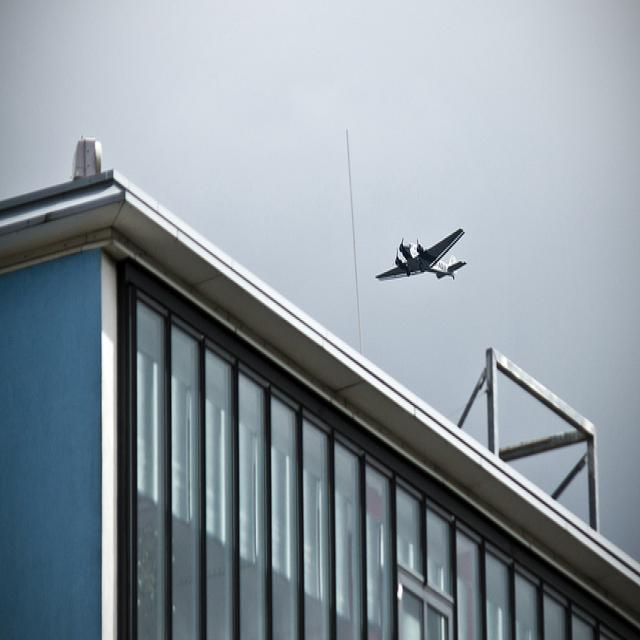airplane: (374, 225, 470, 285)
